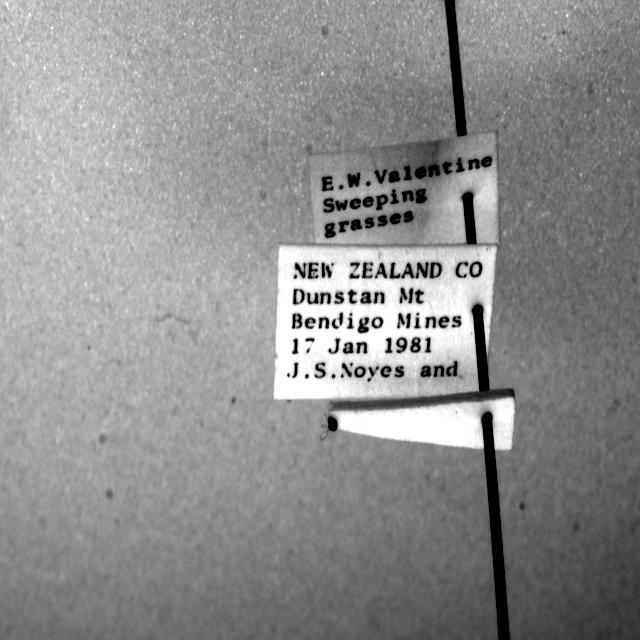typed_label: (274, 244, 496, 399), (310, 131, 500, 244)
